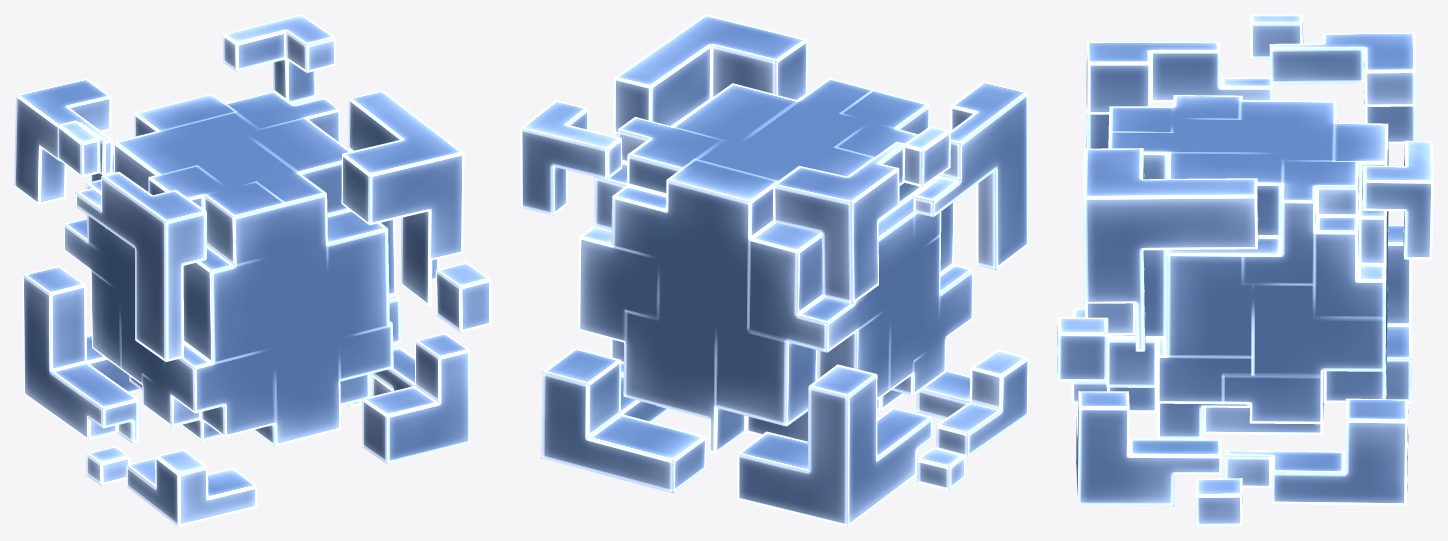
3 views of the same model, side by side, from view 1: azimuth 30°, elevation 25°; view 2: azimuth 150°, elevation 25°; view 3: azimuth 270°, elevation 25° (orthographic). The views are drawn at different scales.
Parts seen in each view (by area): view 1: Stakes_Cube_StateSnapped2:my_piece2, Stakes_Cube_StateSnapped2:my_piece5, Stakes_Cube_StateSnapped2:my_piece1, Stakes_Cube_StateSnapped2:my_piece8, Stakes_Cube_StateSnapped2:my_piece6, Stakes_Cube_StateSnapped2:my_piece3, Stakes_Cube_StateSnapped2:my_piece9, Stakes_Cube_StateSnapped2:my_piece0, Stakes_Cube_StateSnapped2:my_piece4, Stakes_Cube_StateSnapped2:my_piece7, Stakes_Cube_StateSnapped2:my_piece10; view 2: Stakes_Cube_StateSnapped2:my_piece2, Stakes_Cube_StateSnapped2:my_piece1, Stakes_Cube_StateSnapped2:my_piece12, Stakes_Cube_StateSnapped2:my_piece5, Stakes_Cube_StateSnapped2:my_piece8, Stakes_Cube_StateSnapped2:my_piece3, Stakes_Cube_StateSnapped2:my_piece9, Stakes_Cube_StateSnapped2:my_piece0, Stakes_Cube_StateSnapped2:my_piece7, Stakes_Cube_StateSnapped2:my_piece10; view 3: Stakes_Cube_StateSnapped2:my_piece2, Stakes_Cube_StateSnapped2:my_piece5, Stakes_Cube_StateSnapped2:my_piece12, Stakes_Cube_StateSnapped2:my_piece6, Stakes_Cube_StateSnapped2:my_piece8, Stakes_Cube_StateSnapped2:my_piece3, Stakes_Cube_StateSnapped2:my_piece0, Stakes_Cube_StateSnapped2:my_piece1, Stakes_Cube_StateSnapped2:my_piece4, Stakes_Cube_StateSnapped2:my_piece11, Stakes_Cube_StateSnapped2:my_piece7, Stakes_Cube_StateSnapped2:my_piece9.
Boxes of the visible parts, <box> form: Stakes_Cube_StateSnapped2:my_piece2: <box>63,90,401,446</box>; Stakes_Cube_StateSnapped2:my_piece5: <box>341,90,464,306</box>; Stakes_Cube_StateSnapped2:my_piece1: <box>23,265,141,443</box>; Stakes_Cube_StateSnapped2:my_piece8: <box>75,171,206,361</box>; Stakes_Cube_StateSnapped2:my_piece6: <box>362,333,470,463</box>; Stakes_Cube_StateSnapped2:my_piece3: <box>14,78,113,204</box>; Stakes_Cube_StateSnapped2:my_piece9: <box>126,448,257,526</box>; Stakes_Cube_StateSnapped2:my_piece0: <box>222,14,336,103</box>; Stakes_Cube_StateSnapped2:my_piece4: <box>436,262,491,332</box>; Stakes_Cube_StateSnapped2:my_piece7: <box>57,120,100,177</box>; Stakes_Cube_StateSnapped2:my_piece10: <box>86,446,130,485</box>; Stakes_Cube_StateSnapped2:my_piece2: <box>577,77,973,453</box>; Stakes_Cube_StateSnapped2:my_piece1: <box>737,364,932,526</box>; Stakes_Cube_StateSnapped2:my_piece12: <box>541,347,706,493</box>; Stakes_Cube_StateSnapped2:my_piece5: <box>613,14,807,133</box>; Stakes_Cube_StateSnapped2:my_piece8: <box>913,81,1028,269</box>; Stakes_Cube_StateSnapped2:my_piece3: <box>773,141,904,303</box>; Stakes_Cube_StateSnapped2:my_piece9: <box>916,349,1028,457</box>; Stakes_Cube_StateSnapped2:my_piece0: <box>520,100,622,215</box>; Stakes_Cube_StateSnapped2:my_piece7: <box>902,125,950,187</box>; Stakes_Cube_StateSnapped2:my_piece10: <box>917,447,965,490</box>; Stakes_Cube_StateSnapped2:my_piece2: <box>1106,95,1388,438</box>; Stakes_Cube_StateSnapped2:my_piece5: <box>1082,148,1258,351</box>; Stakes_Cube_StateSnapped2:my_piece12: <box>1224,398,1408,505</box>; Stakes_Cube_StateSnapped2:my_piece6: <box>1076,391,1222,506</box>; Stakes_Cube_StateSnapped2:my_piece8: <box>1086,41,1273,148</box>; Stakes_Cube_StateSnapped2:my_piece3: <box>1269,32,1416,144</box>; Stakes_Cube_StateSnapped2:my_piece0: <box>1362,140,1433,259</box>; Stakes_Cube_StateSnapped2:my_piece1: <box>1386,225,1412,403</box>; Stakes_Cube_StateSnapped2:my_piece4: <box>1057,317,1108,381</box>; Stakes_Cube_StateSnapped2:my_piece11: <box>1195,478,1242,526</box>; Stakes_Cube_StateSnapped2:my_piece7: <box>1249,14,1303,59</box>; Stakes_Cube_StateSnapped2:my_piece9: <box>1071,308,1106,404</box>.
Bounding box in the file's own units: 1.39 × 1.38 × 1.35.
